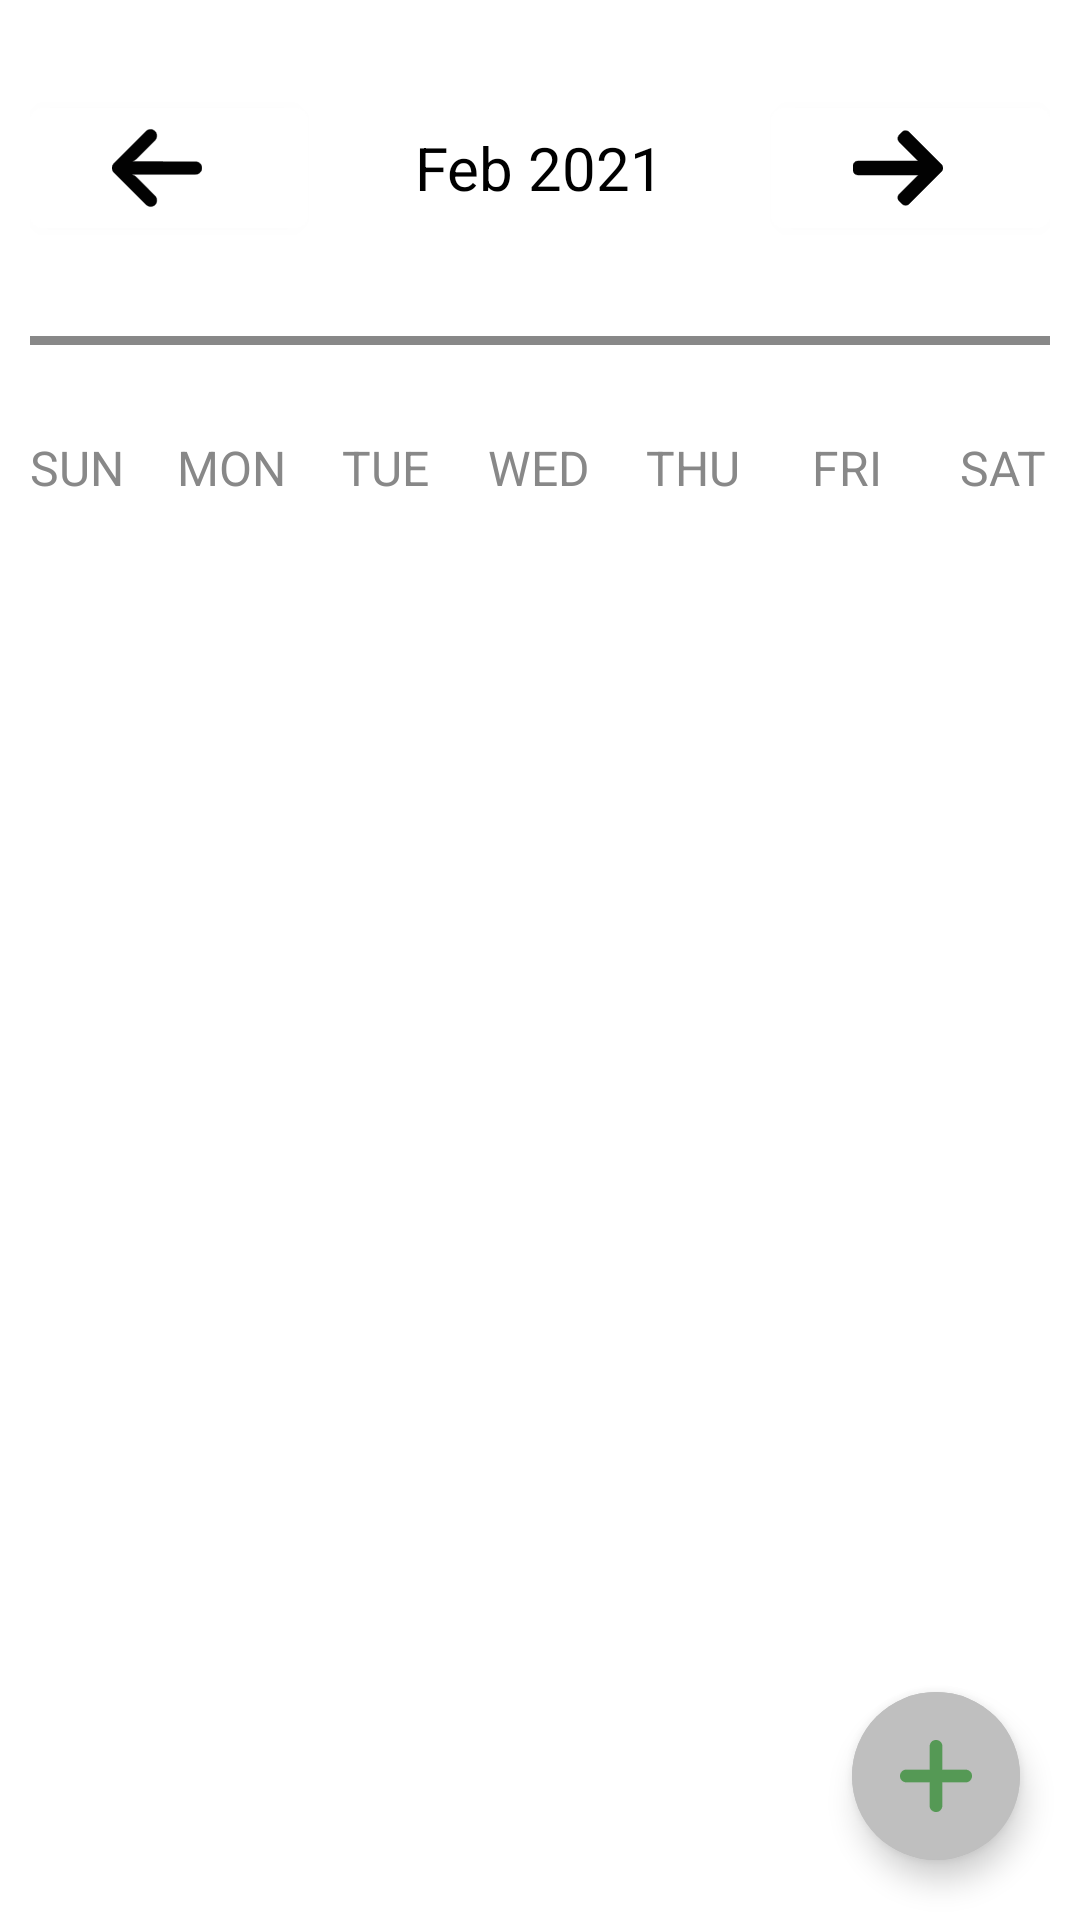

Where icons sit on this 1080px×1920px app screen, as (x1, y1, x2, y2):
left arrow: (112, 129, 202, 207)
plus: (852, 1692, 1020, 1860)
right arrow: (853, 130, 943, 206)
